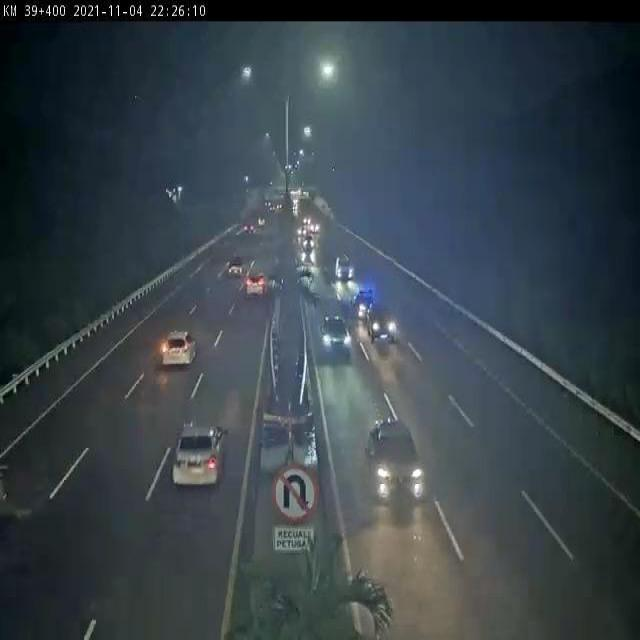car: (161, 410, 238, 510), (364, 426, 428, 514), (150, 324, 202, 383), (312, 299, 353, 353), (359, 304, 395, 341), (343, 272, 370, 307), (239, 275, 267, 308)
